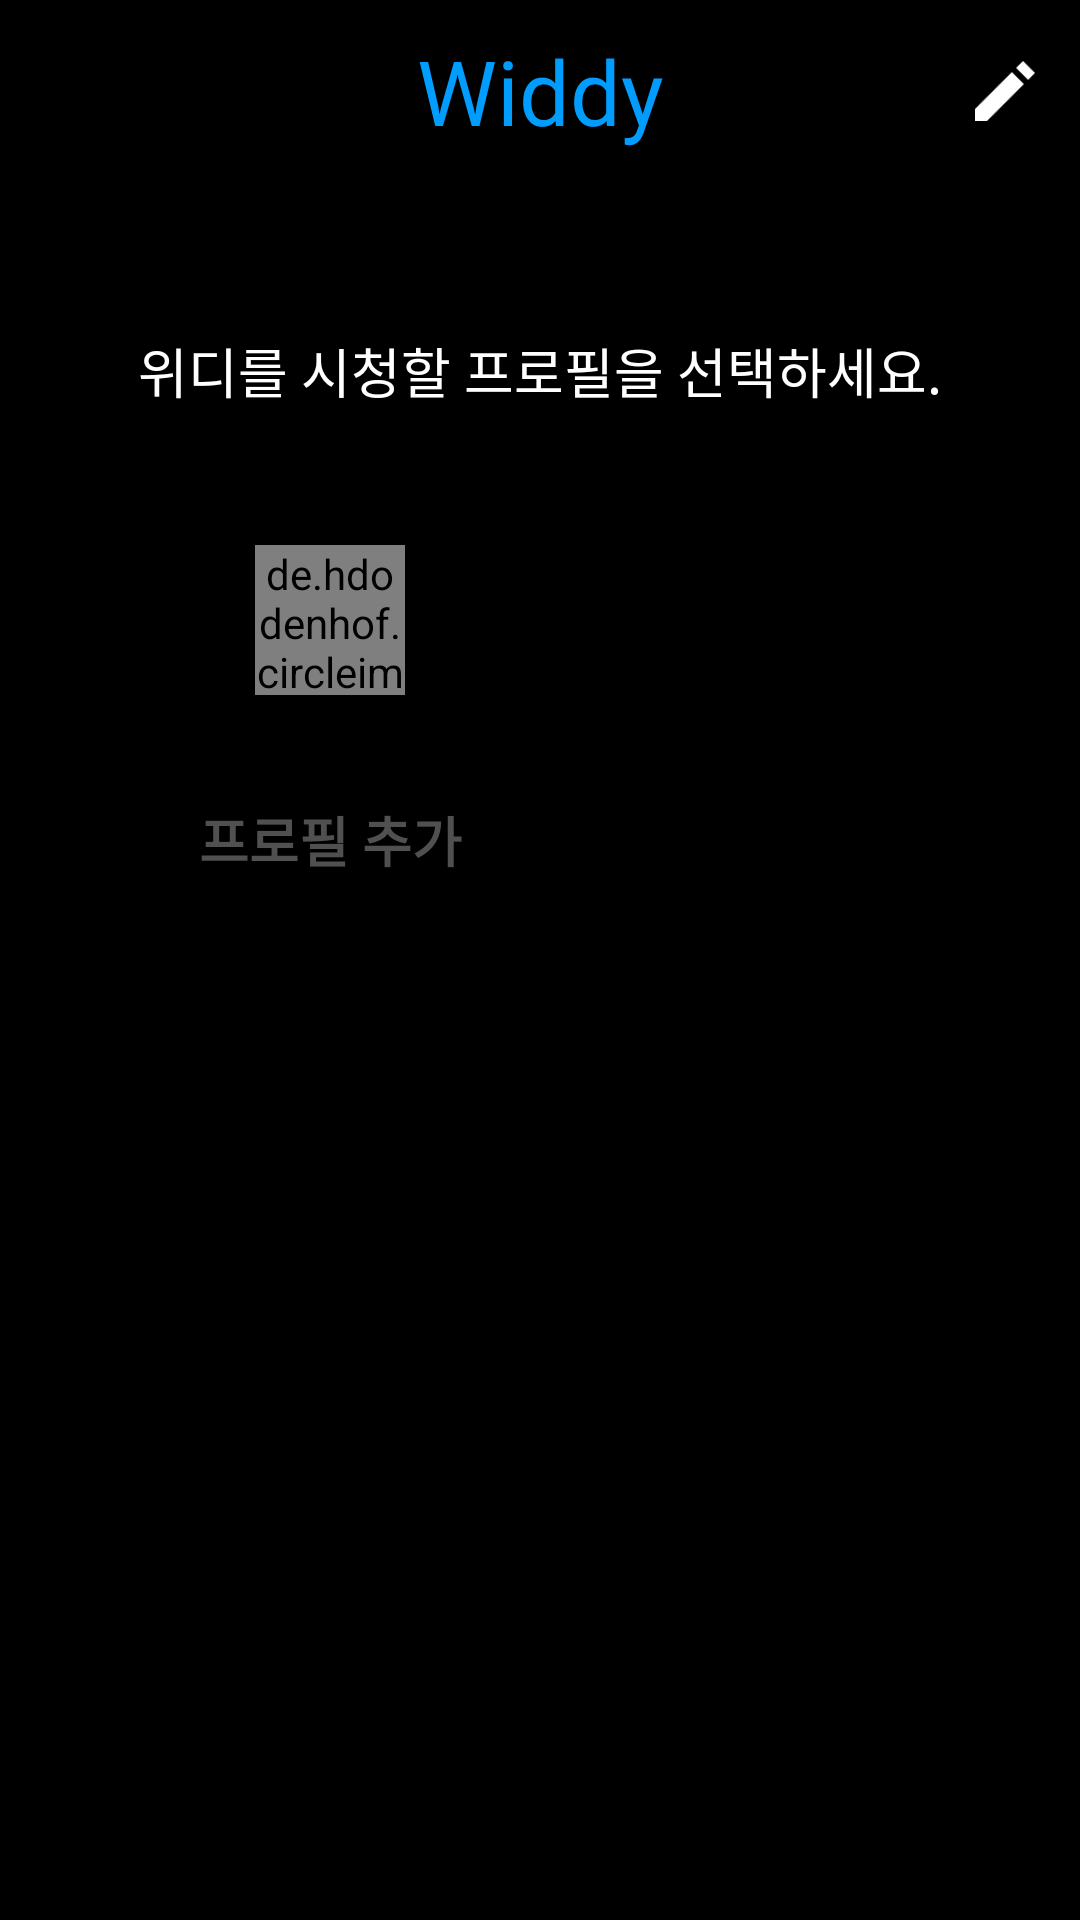

Locate icon controls on the screen. Image size 1080px x 1920px, boxes as {"x1": x1, "y1": y1, "x2": x2, "y2": y2}.
pencil: {"x1": 975, "y1": 61, "x2": 1035, "y2": 121}
